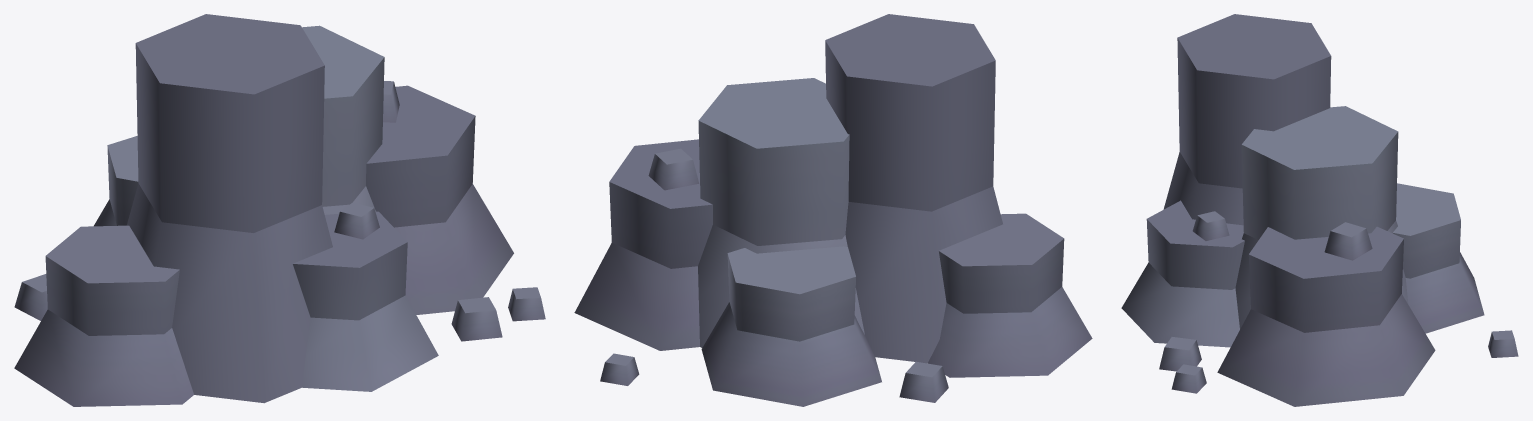
Rendered from rocks-a.glb.
3 views of the same model, side by side, from view 1: azimuth 30°, elevation 25°; view 2: azimuth 150°, elevation 25°; view 3: azimuth 270°, elevation 25° (orthographic). The views are drawn at different scales.
Parts seen in each view (by area): view 1: rocks-a; view 2: rocks-a; view 3: rocks-a.
Boxes of the visible parts, x1,y1,x2,y2 form: rocks-a: (14, 14, 545, 406); rocks-a: (574, 14, 1092, 406); rocks-a: (1121, 14, 1518, 406).
Bounding box in the file's own units: 5.11 × 2.9 × 4.39.
Materials: 1 (1 with a texture image).
